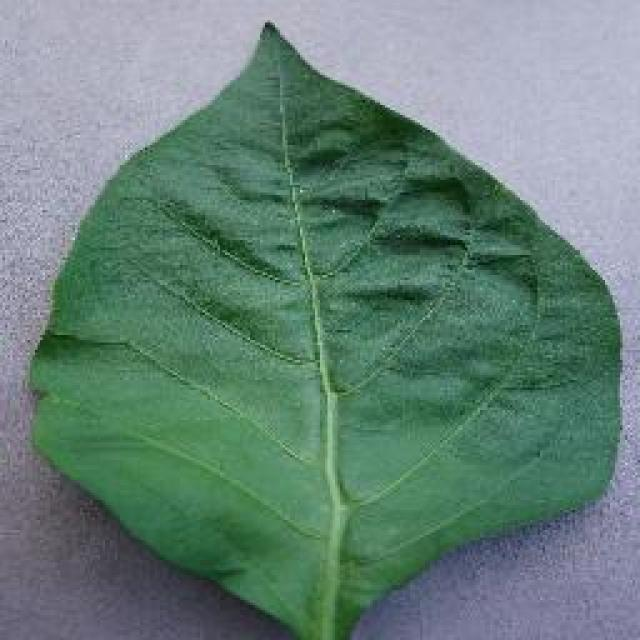Chilli_Healthy: (25, 18, 623, 638)
